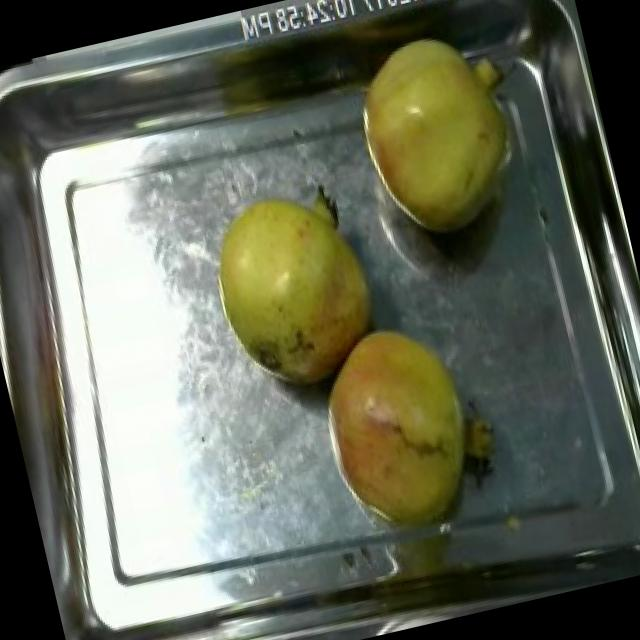fruit: (178, 160, 402, 413), (298, 296, 516, 548), (332, 15, 541, 258)
